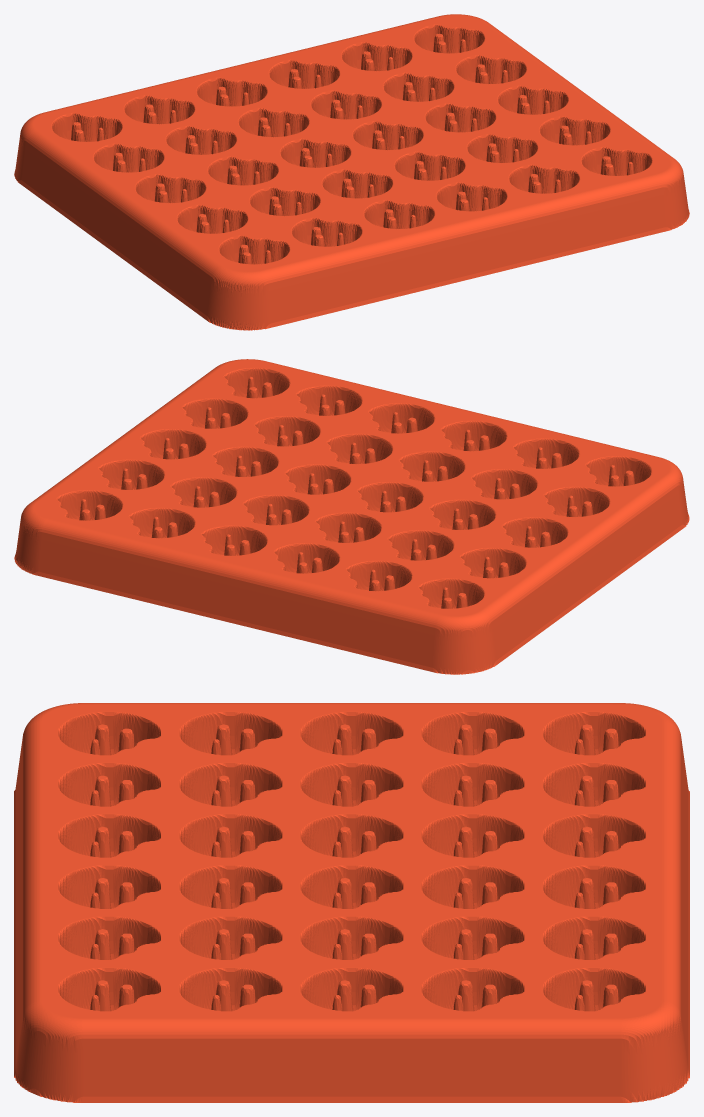
The model's file is mold.glb.
3 renders of one model, top to bottom at view 1: azimuth 30°, elevation 25°; view 2: azimuth 150°, elevation 25°; view 3: azimuth 270°, elevation 25°, orthographic. The views are drawn at different scales.
Parts seen in each view (by area): view 1: geometry_0; view 2: geometry_0; view 3: geometry_0.
Part boxes in pixels (x1=…): geometry_0: x1=14, y1=14, x2=689, y2=330; geometry_0: x1=14, y1=359, x2=689, y2=674; geometry_0: x1=14, y1=703, x2=689, y2=1102.
Size of the model in its own units: 0.104 by 0.0105 by 0.0882.
